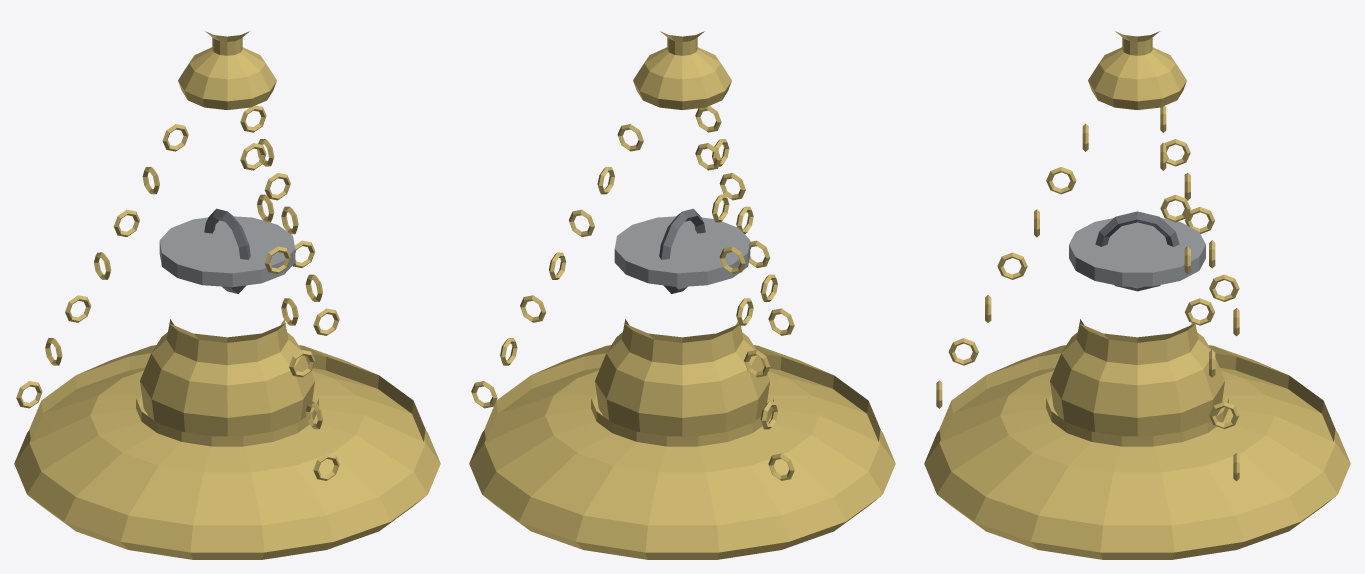
File: monastery_hanging_oil_lamp.glb
3 views of the same model, side by side, from view 1: azimuth 30°, elevation 25°; view 2: azimuth 150°, elevation 25°; view 3: azimuth 270°, elevation 25° (orthographic).
Parts seen in each view (by area): view 1: world; view 2: world; view 3: world.
Boxes of the visible parts, x1,y1,x2,y2 form: world: (14,31,440,559); world: (469,31,895,559); world: (924,31,1350,559).
Bounding box in the file's own units: 1.68 × 2 × 1.71.
